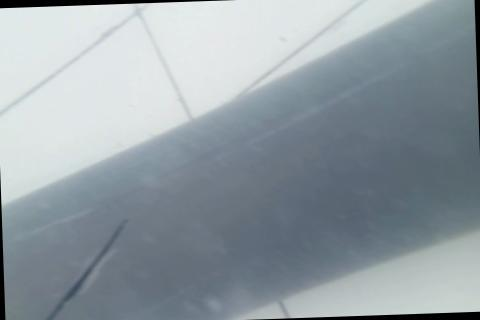keretakan: (24, 215, 134, 320)
